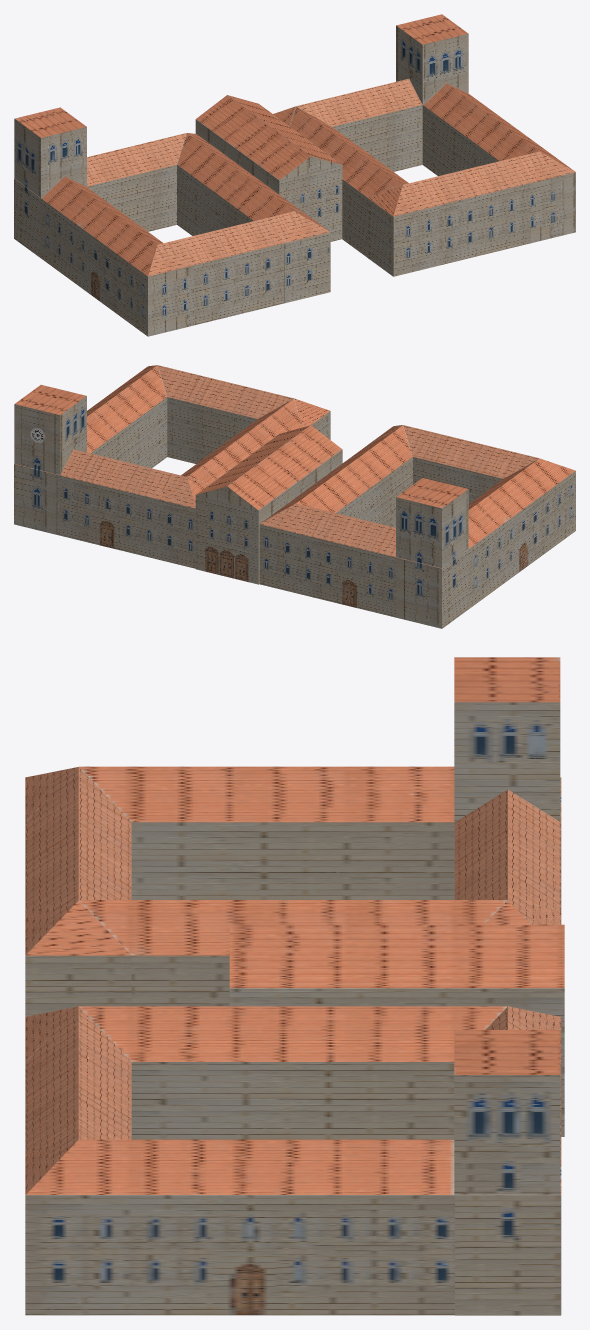
The model's file is universitatlvl1max.fbx.
3 views of the same model, one above another, from view 1: azimuth 30°, elevation 25°; view 2: azimuth 150°, elevation 25°; view 3: azimuth 270°, elevation 25° (orthographic). The views are drawn at different scales.
Visible parts, largest first — view 1: Cube; view 2: Cube; view 3: Cube.
Part boxes in pixels (<box>): Cube: <box>14,14,575,336</box>; Cube: <box>14,365,575,628</box>; Cube: <box>25,657,564,1315</box>.
Bounding box in the file's own units: 1491 × 400 × 813.
